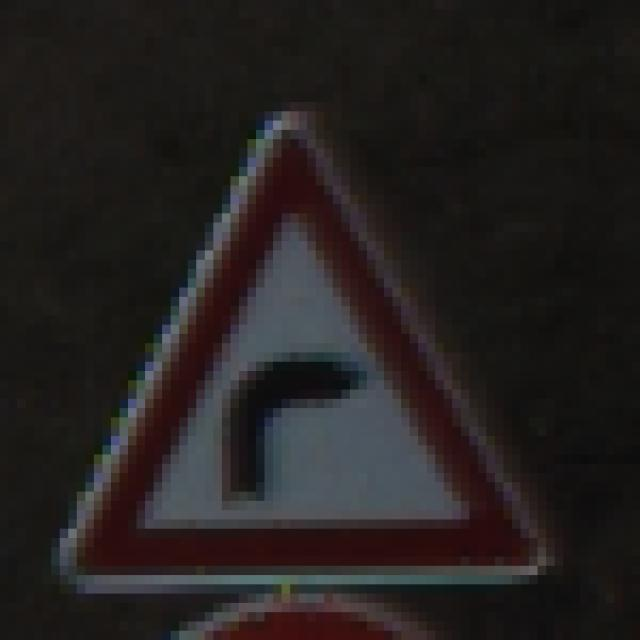right hand curve: (74, 123, 539, 579)
